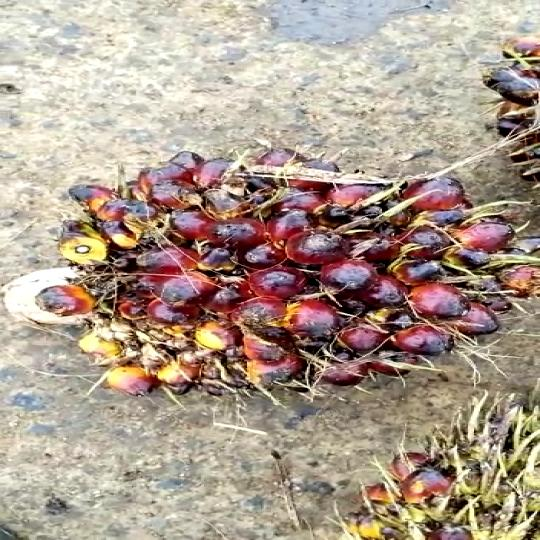kurang masak: (44, 141, 540, 411)
